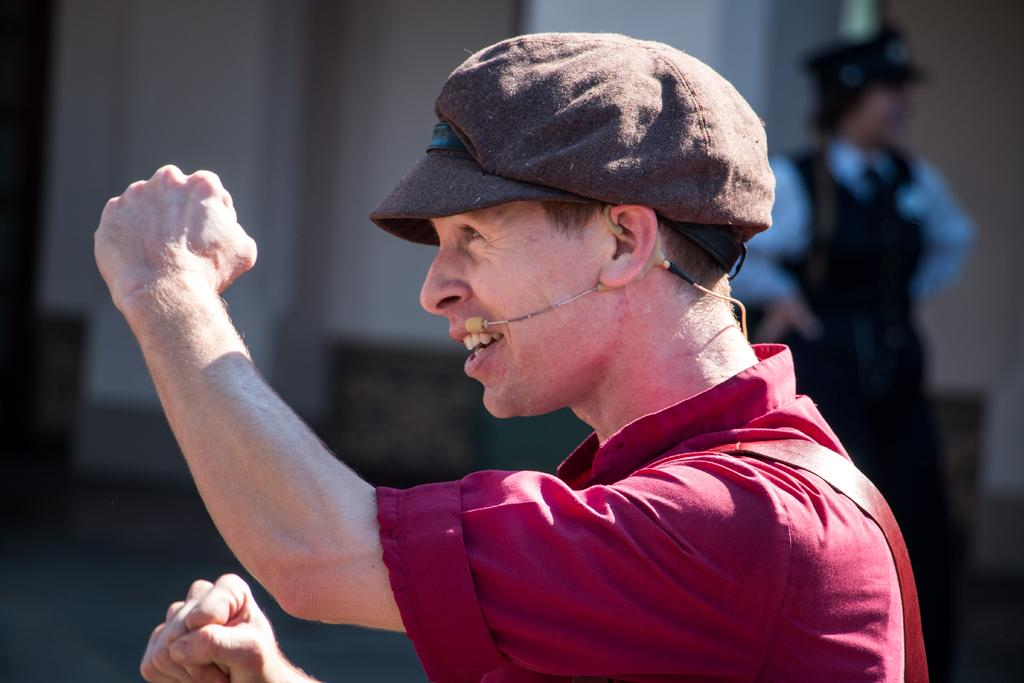Hat: (360, 29, 770, 274), (794, 24, 930, 104)
